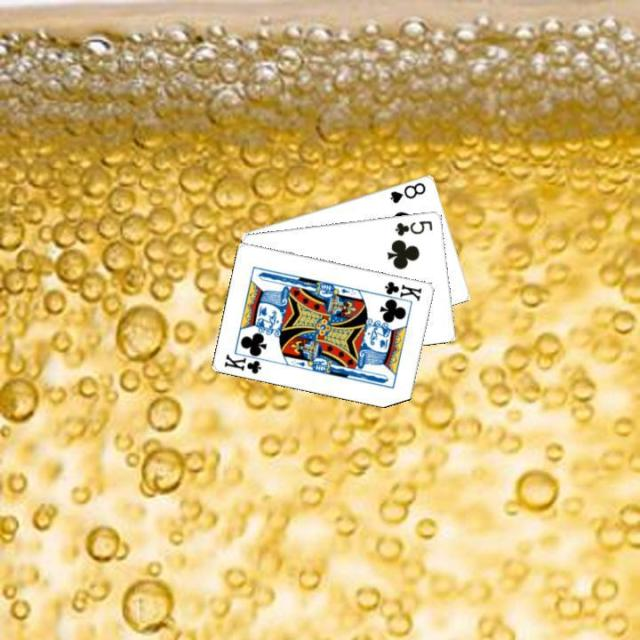5C: (391, 216, 435, 237)
8S: (386, 178, 428, 204)
KC: (220, 347, 270, 375), (375, 277, 424, 305)
